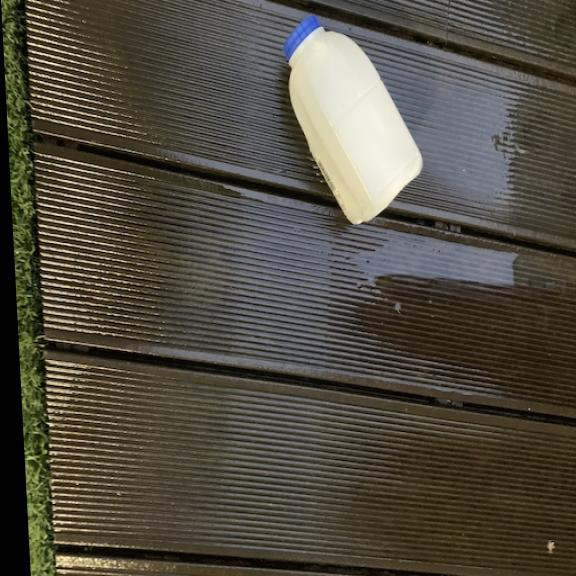Plastik: (275, 14, 424, 240)
